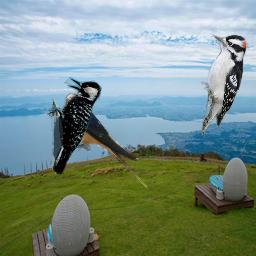Swallow: (63, 93, 148, 189)
Woodpecker: (46, 77, 103, 174), (201, 30, 251, 137)
